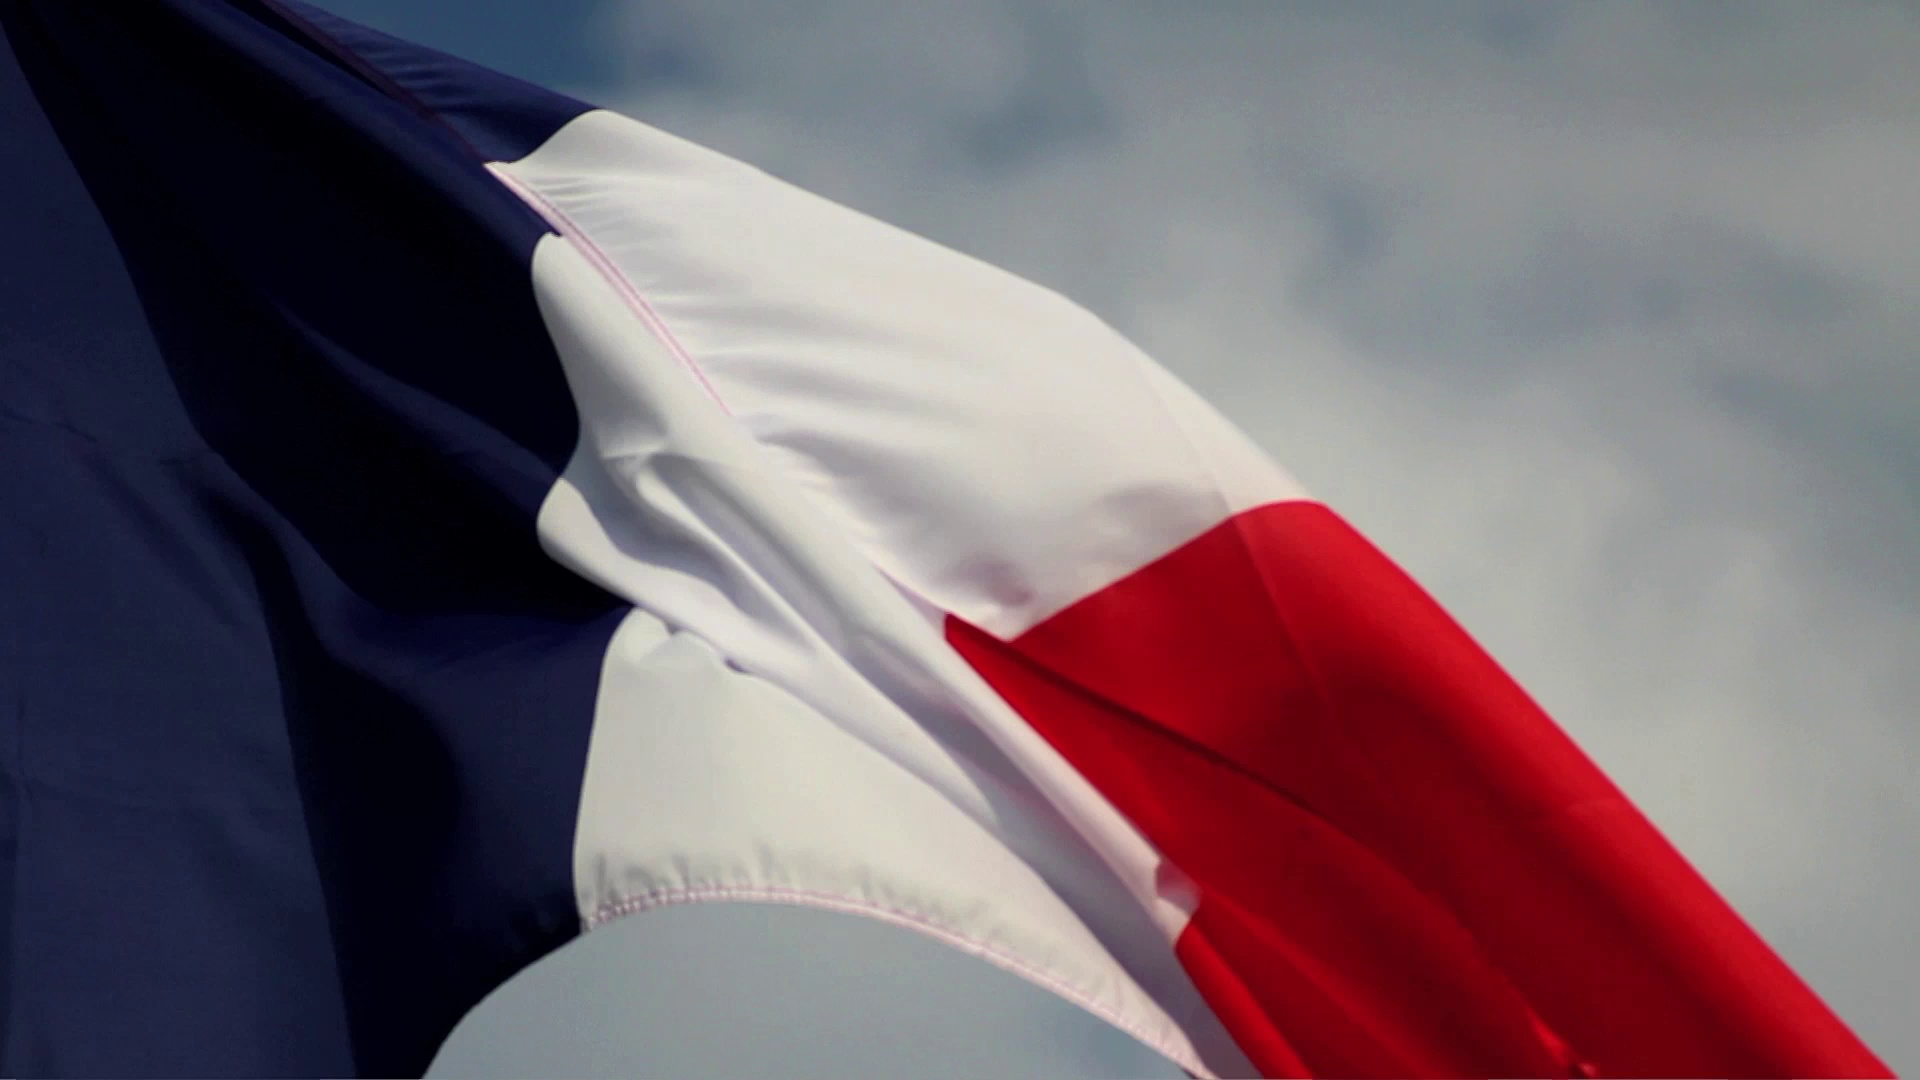French Flag: (1, 1, 1884, 1080)
